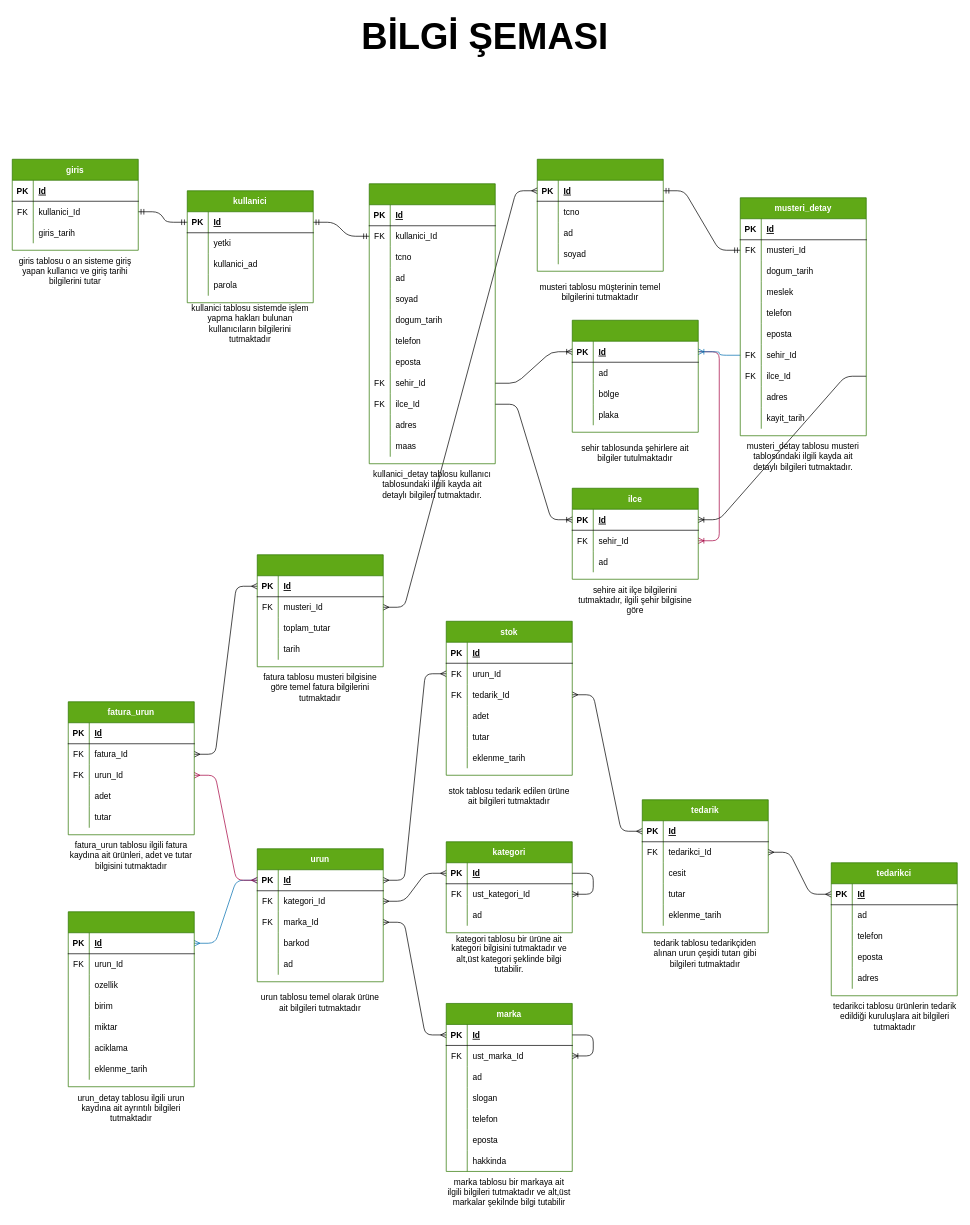
The diagram is 970 pixels wide and 1225 high, and some of its shapes have lost their labels. The box of each missing label's shape, as (x1, y1, x2, y2) in pixels:
fatura: (257, 554, 383, 667)
kullanici_detay: (369, 183, 495, 464)
musteri: (537, 159, 663, 271)
sehir: (572, 320, 698, 432)
urun_detay: (68, 911, 194, 1087)
